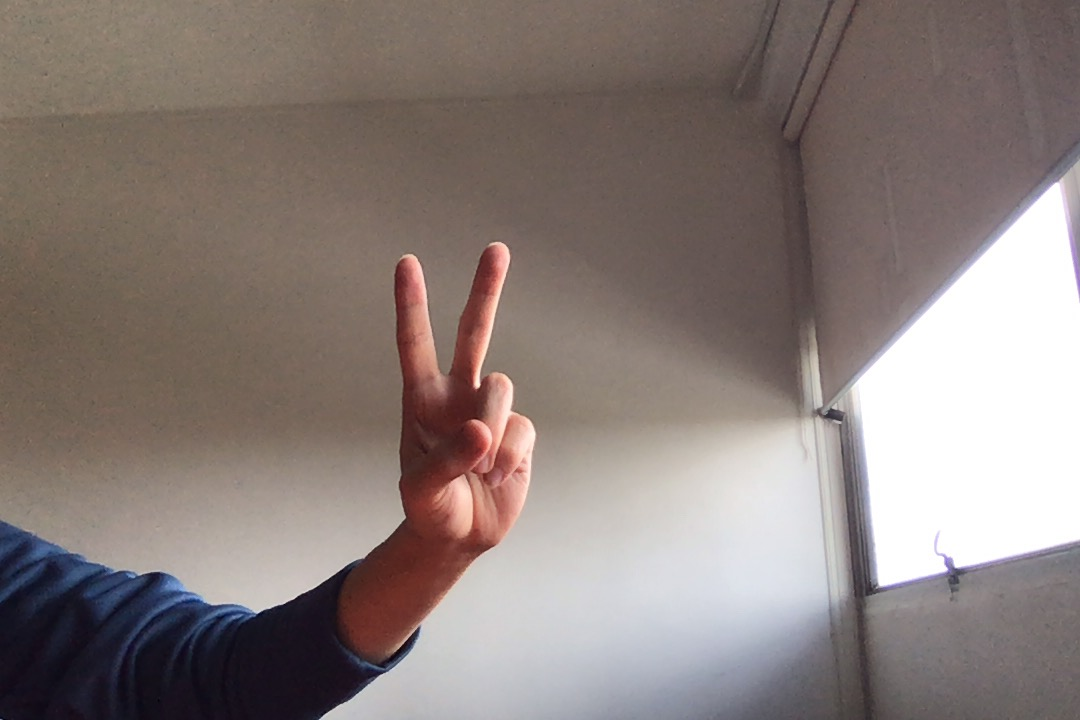peacesign: (386, 237, 544, 553)
